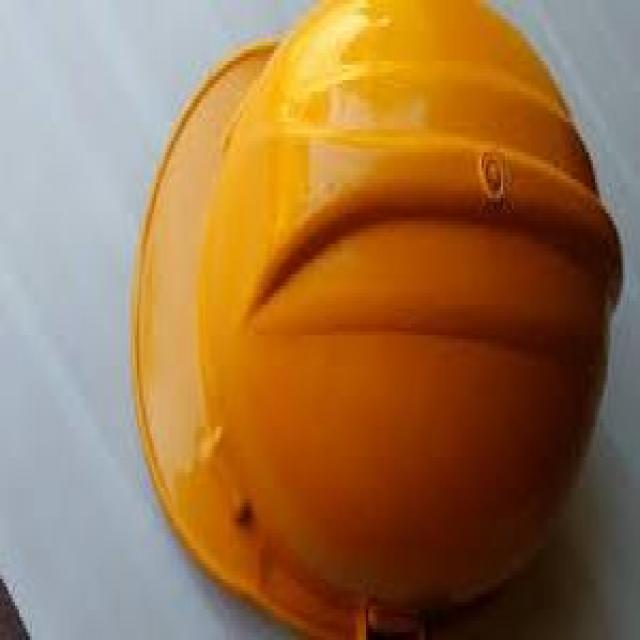Safety-Helmet: (105, 0, 625, 629)
